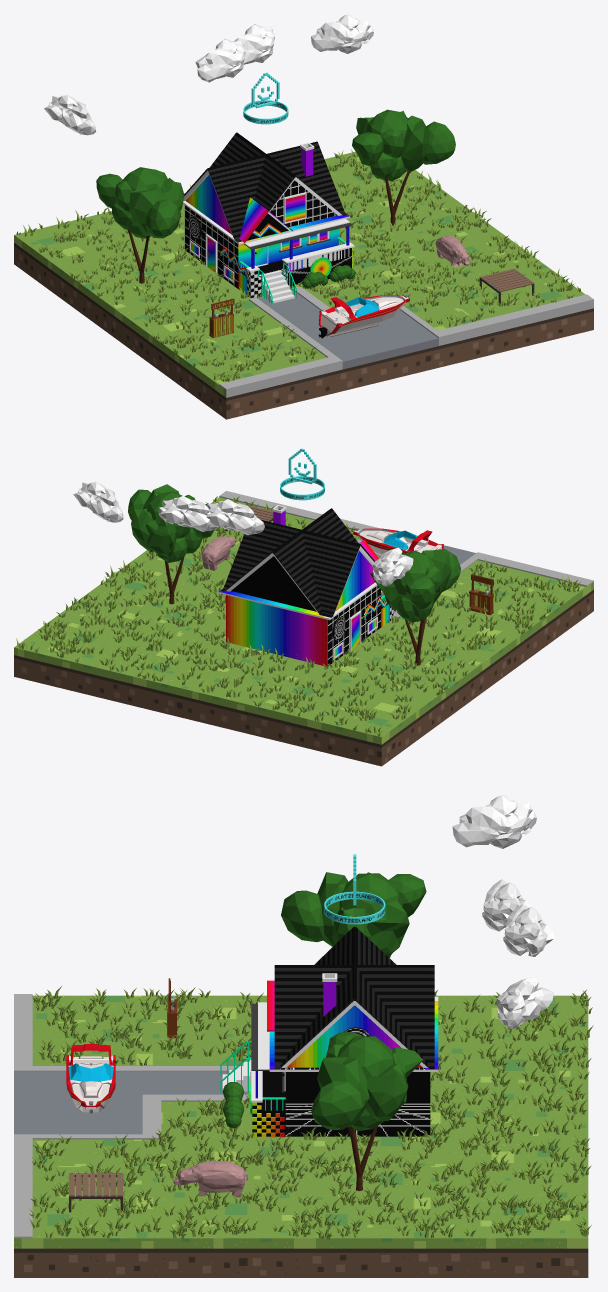
The picture shows the model from 3 angles, top to bottom: view 1: azimuth 30°, elevation 25°; view 2: azimuth 150°, elevation 25°; view 3: azimuth 270°, elevation 25°; orthographic projection. The views are drawn at different scales.
Parts seen in each view (by area): view 1: Cube.006, Cube.1320, Circle.012_Grass_0.192, Cube.007, tree, tree.001, VEHICLES_BOAT, TYPE_PREMIUM, Cube.009, ANIMAL_HIPOPOTAMO, OBJRANDOM_LEMONADE_STAND; view 2: Cube.006, Cube.1320, Circle.012_Grass_0.192, Cube.007, tree.001, tree, VEHICLES_BOAT, TYPE_PREMIUM, ANIMAL_HIPOPOTAMO, OBJRANDOM_LEMONADE_STAND; view 3: Cube.006, Circle.012_Grass_0.192, Cube.1320, tree, Cube.007, tree.001, VEHICLES_BOAT, ANIMAL_HIPOPOTAMO, Cube.009, TYPE_PREMIUM.
Part boxes in pixels (x1=…): Cube.006: x1=14, y1=151, x2=593, y2=419; Cube.1320: x1=183, y1=132, x2=354, y2=304; Circle.012_Grass_0.192: x1=16, y1=149, x2=580, y2=381; Cube.007: x1=44, y1=14, x2=373, y2=135; tree: x1=352, y1=109, x2=455, y2=225; tree.001: x1=96, y1=167, x2=184, y2=283; VEHICLES_BOAT: x1=318, y1=294, x2=409, y2=338; TYPE_PREMIUM: x1=243, y1=72, x2=288, y2=124; Cube.009: x1=479, y1=268, x2=534, y2=303; ANIMAL_HIPOPOTAMO: x1=435, y1=235, x2=470, y2=266; OBJRANDOM_LEMONADE_STAND: x1=209, y1=298, x2=234, y2=337; Cube.006: x1=14, y1=491, x2=593, y2=766; Cube.1320: x1=218, y1=505, x2=393, y2=666; Circle.012_Grass_0.192: x1=16, y1=496, x2=580, y2=736; Cube.007: x1=73, y1=481, x2=413, y2=586; tree.001: x1=370, y1=549, x2=460, y2=665; tree: x1=128, y1=484, x2=214, y2=604; VEHICLES_BOAT: x1=353, y1=528, x2=443, y2=555; TYPE_PREMIUM: x1=280, y1=448, x2=324, y2=500; ANIMAL_HIPOPOTAMO: x1=201, y1=536, x2=236, y2=570; OBJRANDOM_LEMONADE_STAND: x1=469, y1=574, x2=493, y2=615; Cube.006: x1=14, y1=994, x2=588, y2=1277; Circle.012_Grass_0.192: x1=29, y1=986, x2=593, y2=1239; Cube.1320: x1=220, y1=926, x2=438, y2=1137; tree: x1=311, y1=1032, x2=422, y2=1190; Cube.007: x1=452, y1=795, x2=553, y2=1029; tree.001: x1=281, y1=872, x2=426, y2=957; VEHICLES_BOAT: x1=66, y1=1044, x2=115, y2=1113; ANIMAL_HIPOPOTAMO: x1=173, y1=1160, x2=247, y2=1197; Cube.009: x1=69, y1=1172, x2=122, y2=1212; TYPE_PREMIUM: x1=324, y1=854, x2=385, y2=924.
Bounding box in the file's own units: 4071 × 2323 × 4040.
Materials: 35 (7 with a texture image).
